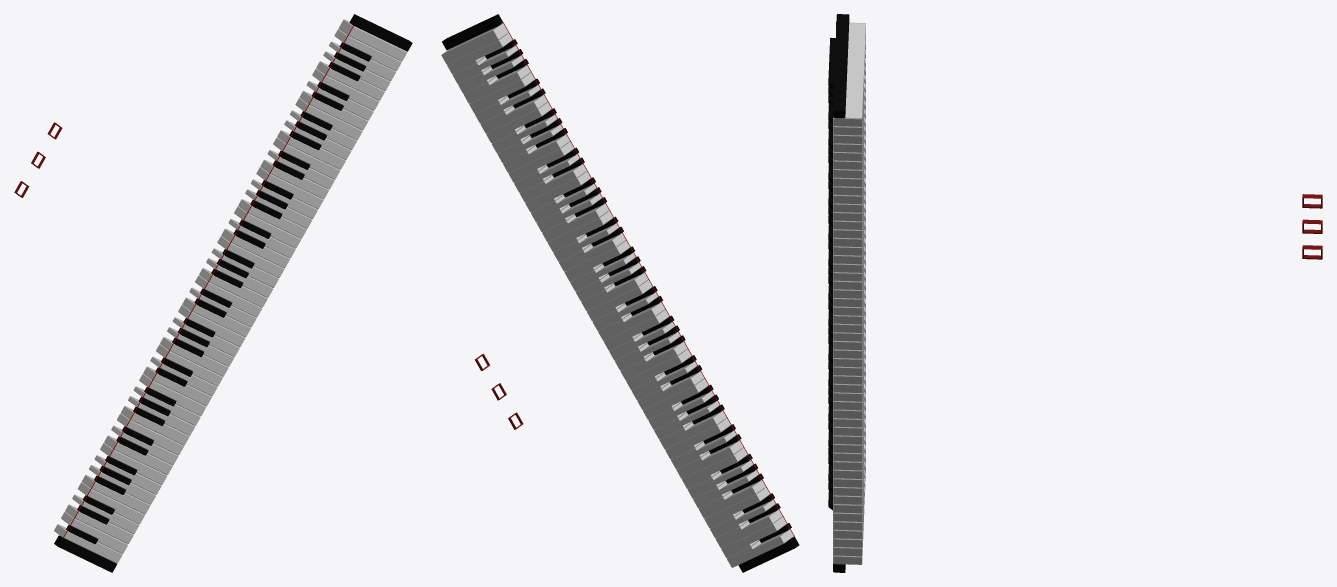
File: Piano_SrcWaveform.obj
3 renders of one model, left to right at view 1: azimuth 30°, elevation 25°; view 2: azimuth 150°, elevation 25°; view 3: azimuth 270°, elevation 25°, orthographic. The views are drawn at different scales.
Visible parts, largest first — view 1: Object.5, Object.7, Object.6, Object.90, Object.42, Object.54, Object.78, Object.30, Object.76, Object.88, Object.28, Object.52 (+43 smaller); view 2: Object.5, Object.72, Object.24, Object.84, Object.19, Object.36, Object.48, Object.60, Object.67, Object.91, Object.31, Object.43 (+43 smaller); view 3: Object.5, Object.6.
Boxes of the visible parts, x1=… form: Object.5: x1=338, y1=19, x2=407, y2=61; Object.7: x1=63, y1=25, x2=353, y2=538; Object.6: x1=349, y1=14, x2=412, y2=51; Object.90: x1=312, y1=68, x2=379, y2=110; Object.42: x1=156, y1=344, x2=222, y2=386; Object.54: x1=195, y1=275, x2=261, y2=317; Object.78: x1=273, y1=137, x2=340, y2=179; Object.30: x1=117, y1=413, x2=183, y2=455; Object.76: x1=295, y1=98, x2=362, y2=140; Object.88: x1=334, y1=29, x2=401, y2=71; Object.28: x1=139, y1=374, x2=206, y2=415; Object.52: x1=217, y1=236, x2=284, y2=277; Object.5: x1=441, y1=23, x2=508, y2=64; Object.72: x1=519, y1=164, x2=586, y2=202; Object.24: x1=676, y1=440, x2=743, y2=478; Object.84: x1=480, y1=95, x2=547, y2=133; Object.19: x1=699, y1=480, x2=765, y2=518; Object.36: x1=637, y1=371, x2=704, y2=409; Object.48: x1=598, y1=302, x2=664, y2=340; Object.60: x1=559, y1=233, x2=625, y2=271; Object.67: x1=542, y1=204, x2=609, y2=241; Object.91: x1=464, y1=65, x2=530, y2=103; Object.31: x1=659, y1=411, x2=726, y2=449; Object.43: x1=620, y1=342, x2=687, y2=380; Object.5: x1=833, y1=22, x2=865, y2=126; Object.6: x1=833, y1=14, x2=849, y2=118.
Bounding box in the file's own units: 70.33 × 94 × 57.04.
